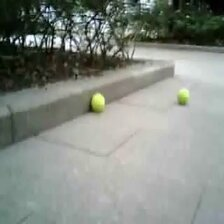tennis: (175, 89, 191, 105), (90, 93, 104, 111)
